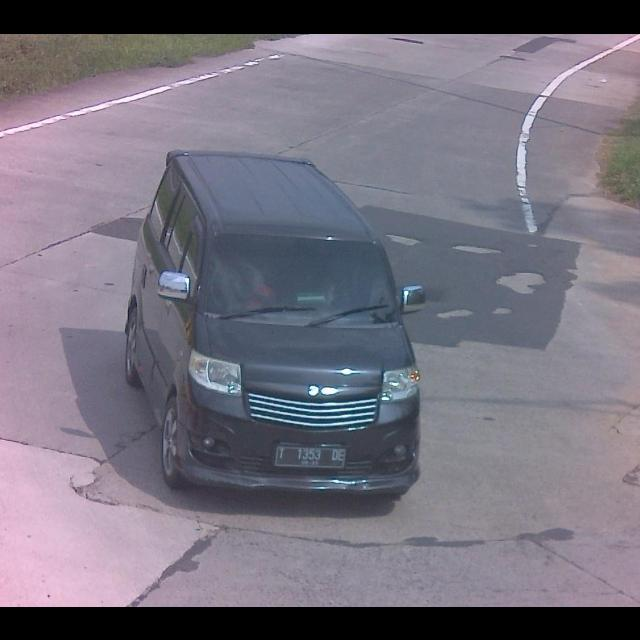plate: (274, 446, 348, 468)
